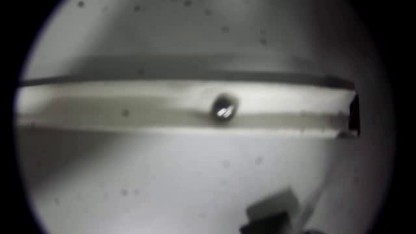gangzhu: (209, 92, 239, 126)
